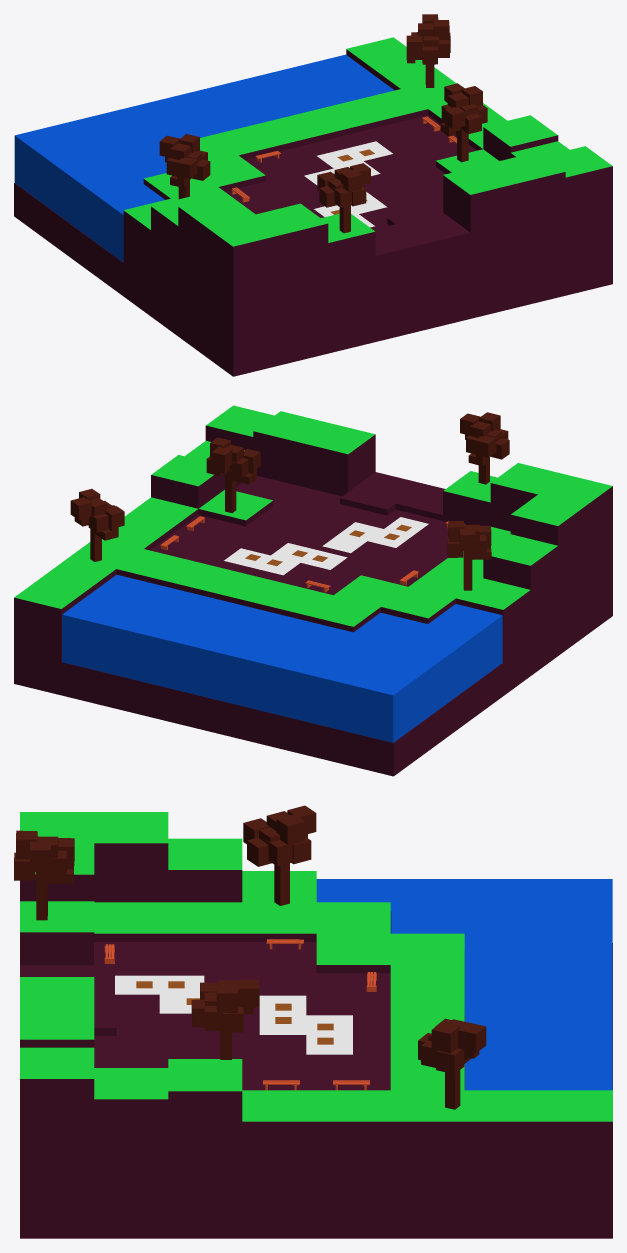
The model's file is park.glb.
3 views of the same model, one above another, from view 1: azimuth 30°, elevation 25°; view 2: azimuth 150°, elevation 25°; view 3: azimuth 270°, elevation 25° (orthographic). The views are drawn at different scales.
Visible parts, largest first — view 1: Cube, Cube.005, Cube.009, Cube.004, Cube.002, Cube.012, Cube.001, Cube.021, Cube.019; view 2: Cube, Cube.005, Cube.009, Cube.002, Cube.004, Cube.001, Cube.012, Cube.021, Cube.019; view 3: Cube, Cube.009, Cube.005, Cube.012, Cube.021, Cube.004, Cube.001, Cube.002, Cube.019.
Boxes of the visible parts, box(x1,y1,x2,y2) form: Cube: box(14, 49, 612, 376); Cube.005: box(14, 54, 394, 262); Cube.009: box(124, 37, 612, 246); Cube.004: box(440, 83, 487, 162); Cube.002: box(317, 163, 370, 233); Cube.012: box(159, 134, 210, 199); Cube.001: box(406, 14, 450, 87); Cube.021: box(304, 141, 392, 185); Cube.019: box(314, 192, 387, 227); Cube: box(14, 425, 612, 776); Cube.005: box(62, 574, 502, 742); Cube.009: box(14, 405, 612, 626); Cube.002: box(460, 412, 509, 484); Cube.004: box(206, 437, 260, 513); Cube.001: box(70, 488, 124, 561); Cube.012: box(447, 521, 491, 590); Cube.021: box(224, 543, 347, 575); Cube.019: box(322, 517, 428, 553); Cube: box(20, 843, 612, 1238); Cube.009: box(20, 812, 612, 1121); Cube.005: box(316, 879, 612, 1090); Cube.012: box(243, 805, 316, 905); Cube.021: box(259, 995, 352, 1054); Cube.004: box(191, 979, 259, 1059); Cube.001: box(418, 1018, 486, 1109); Cube.002: box(14, 830, 74, 920); Cube.019: box(115, 975, 204, 1013).
Bounding box in the file's own units: 23.06 × 9.96 × 23.29.
